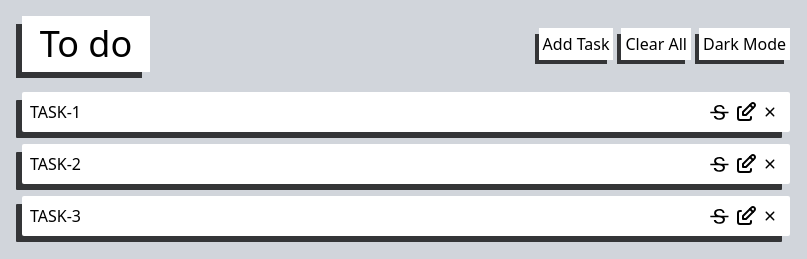
Scenario: App › Buttons › Delete All
Click the button "Clear All" at point(656, 44), box [622,28,691,60]
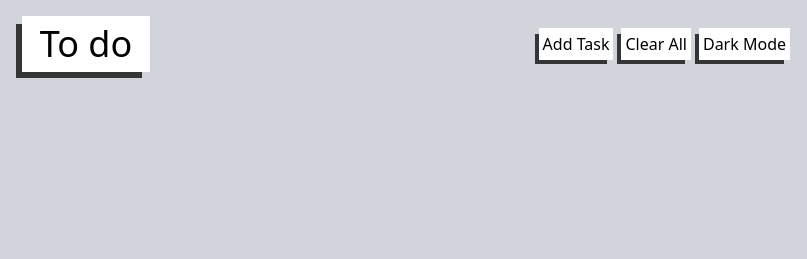
Now the button with test id "task" is gone
